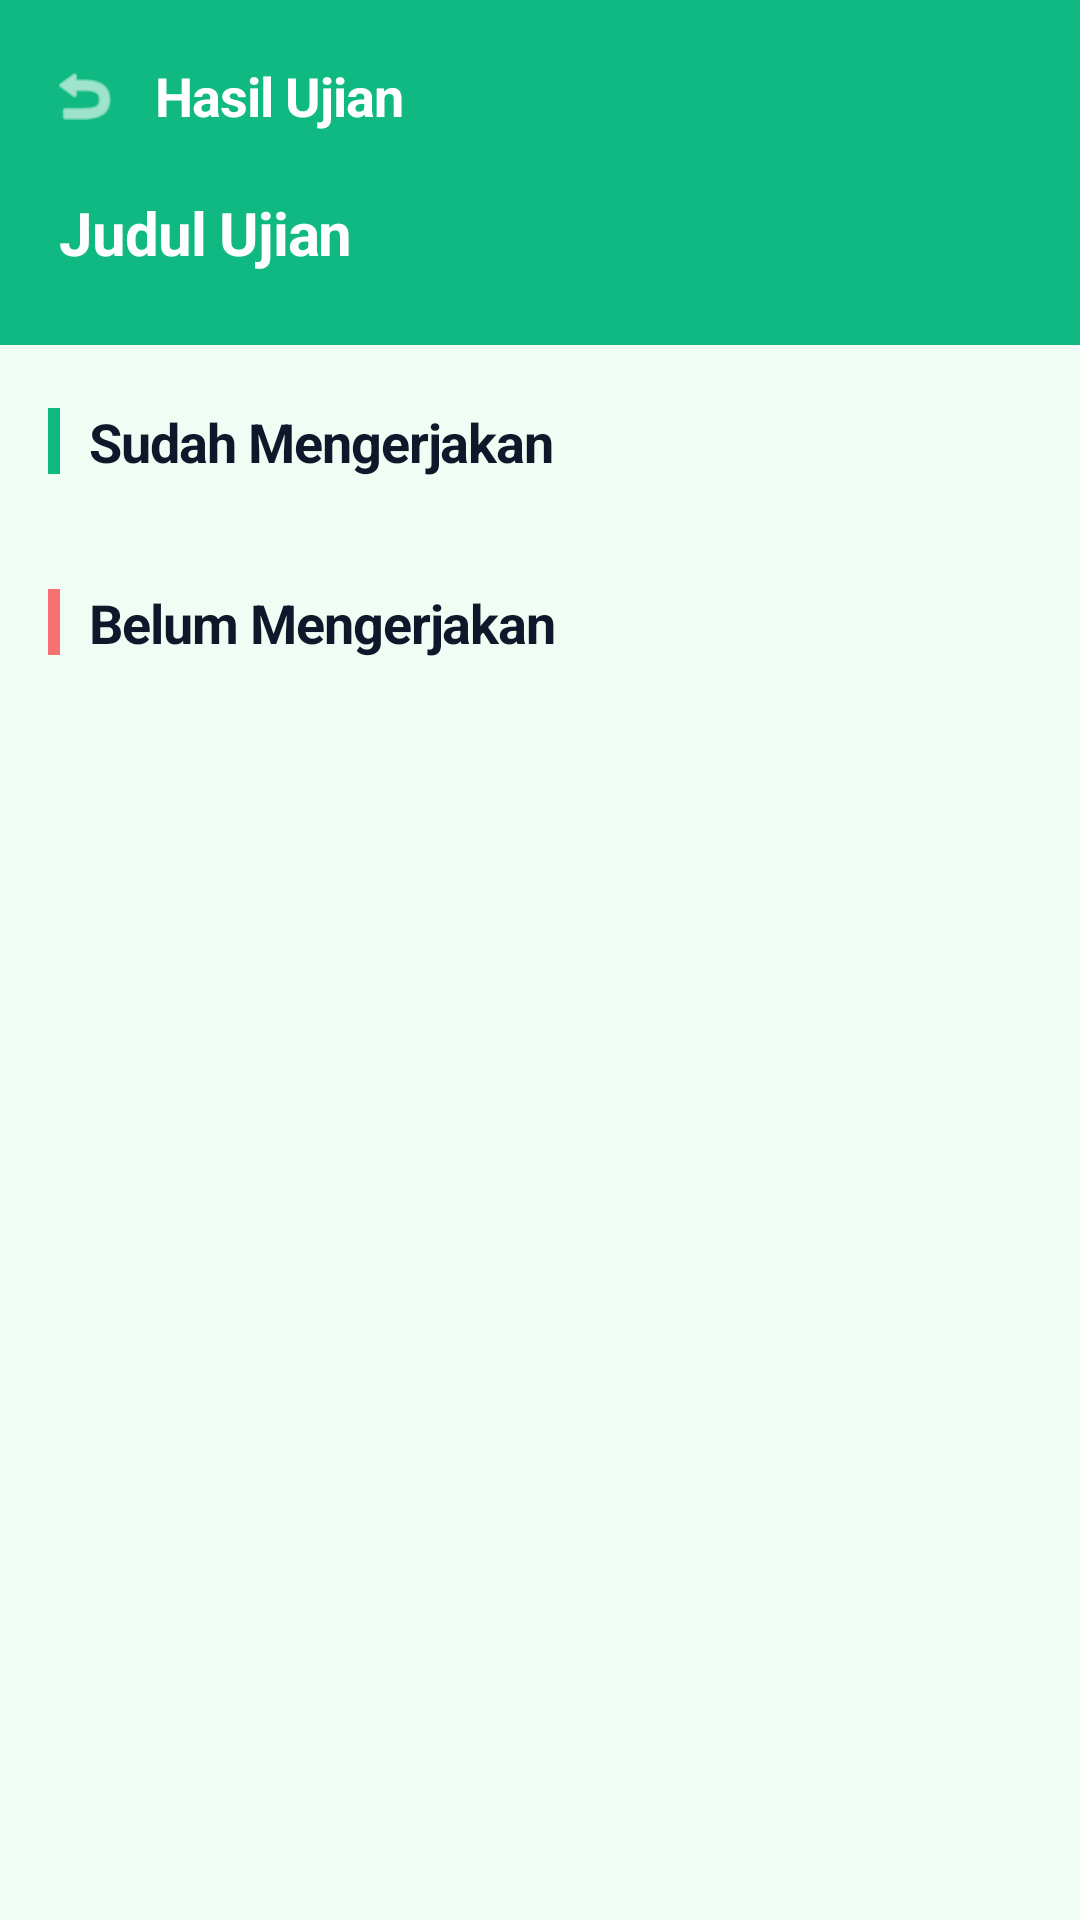

Named icons in this screenshot (1080w x 1920h) and their bounding boxes, BBox(x1, y1, x2, y2):
revert: BBox(59, 73, 111, 120)
